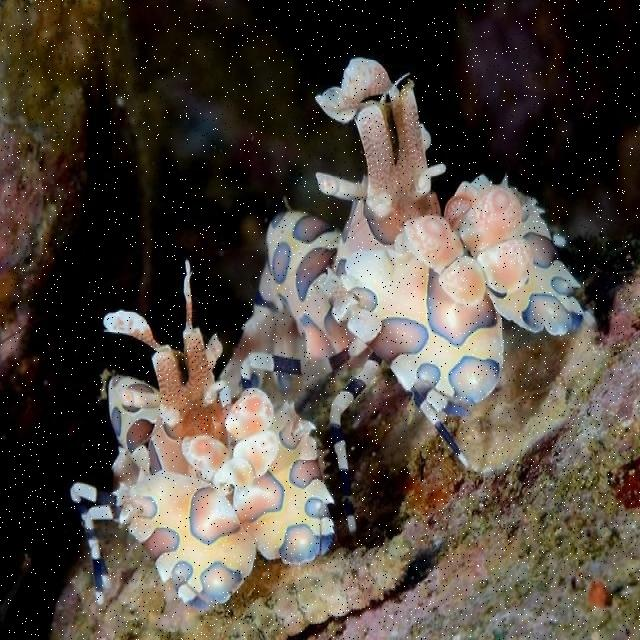reefs: (219, 57, 584, 543), (70, 260, 335, 611)
